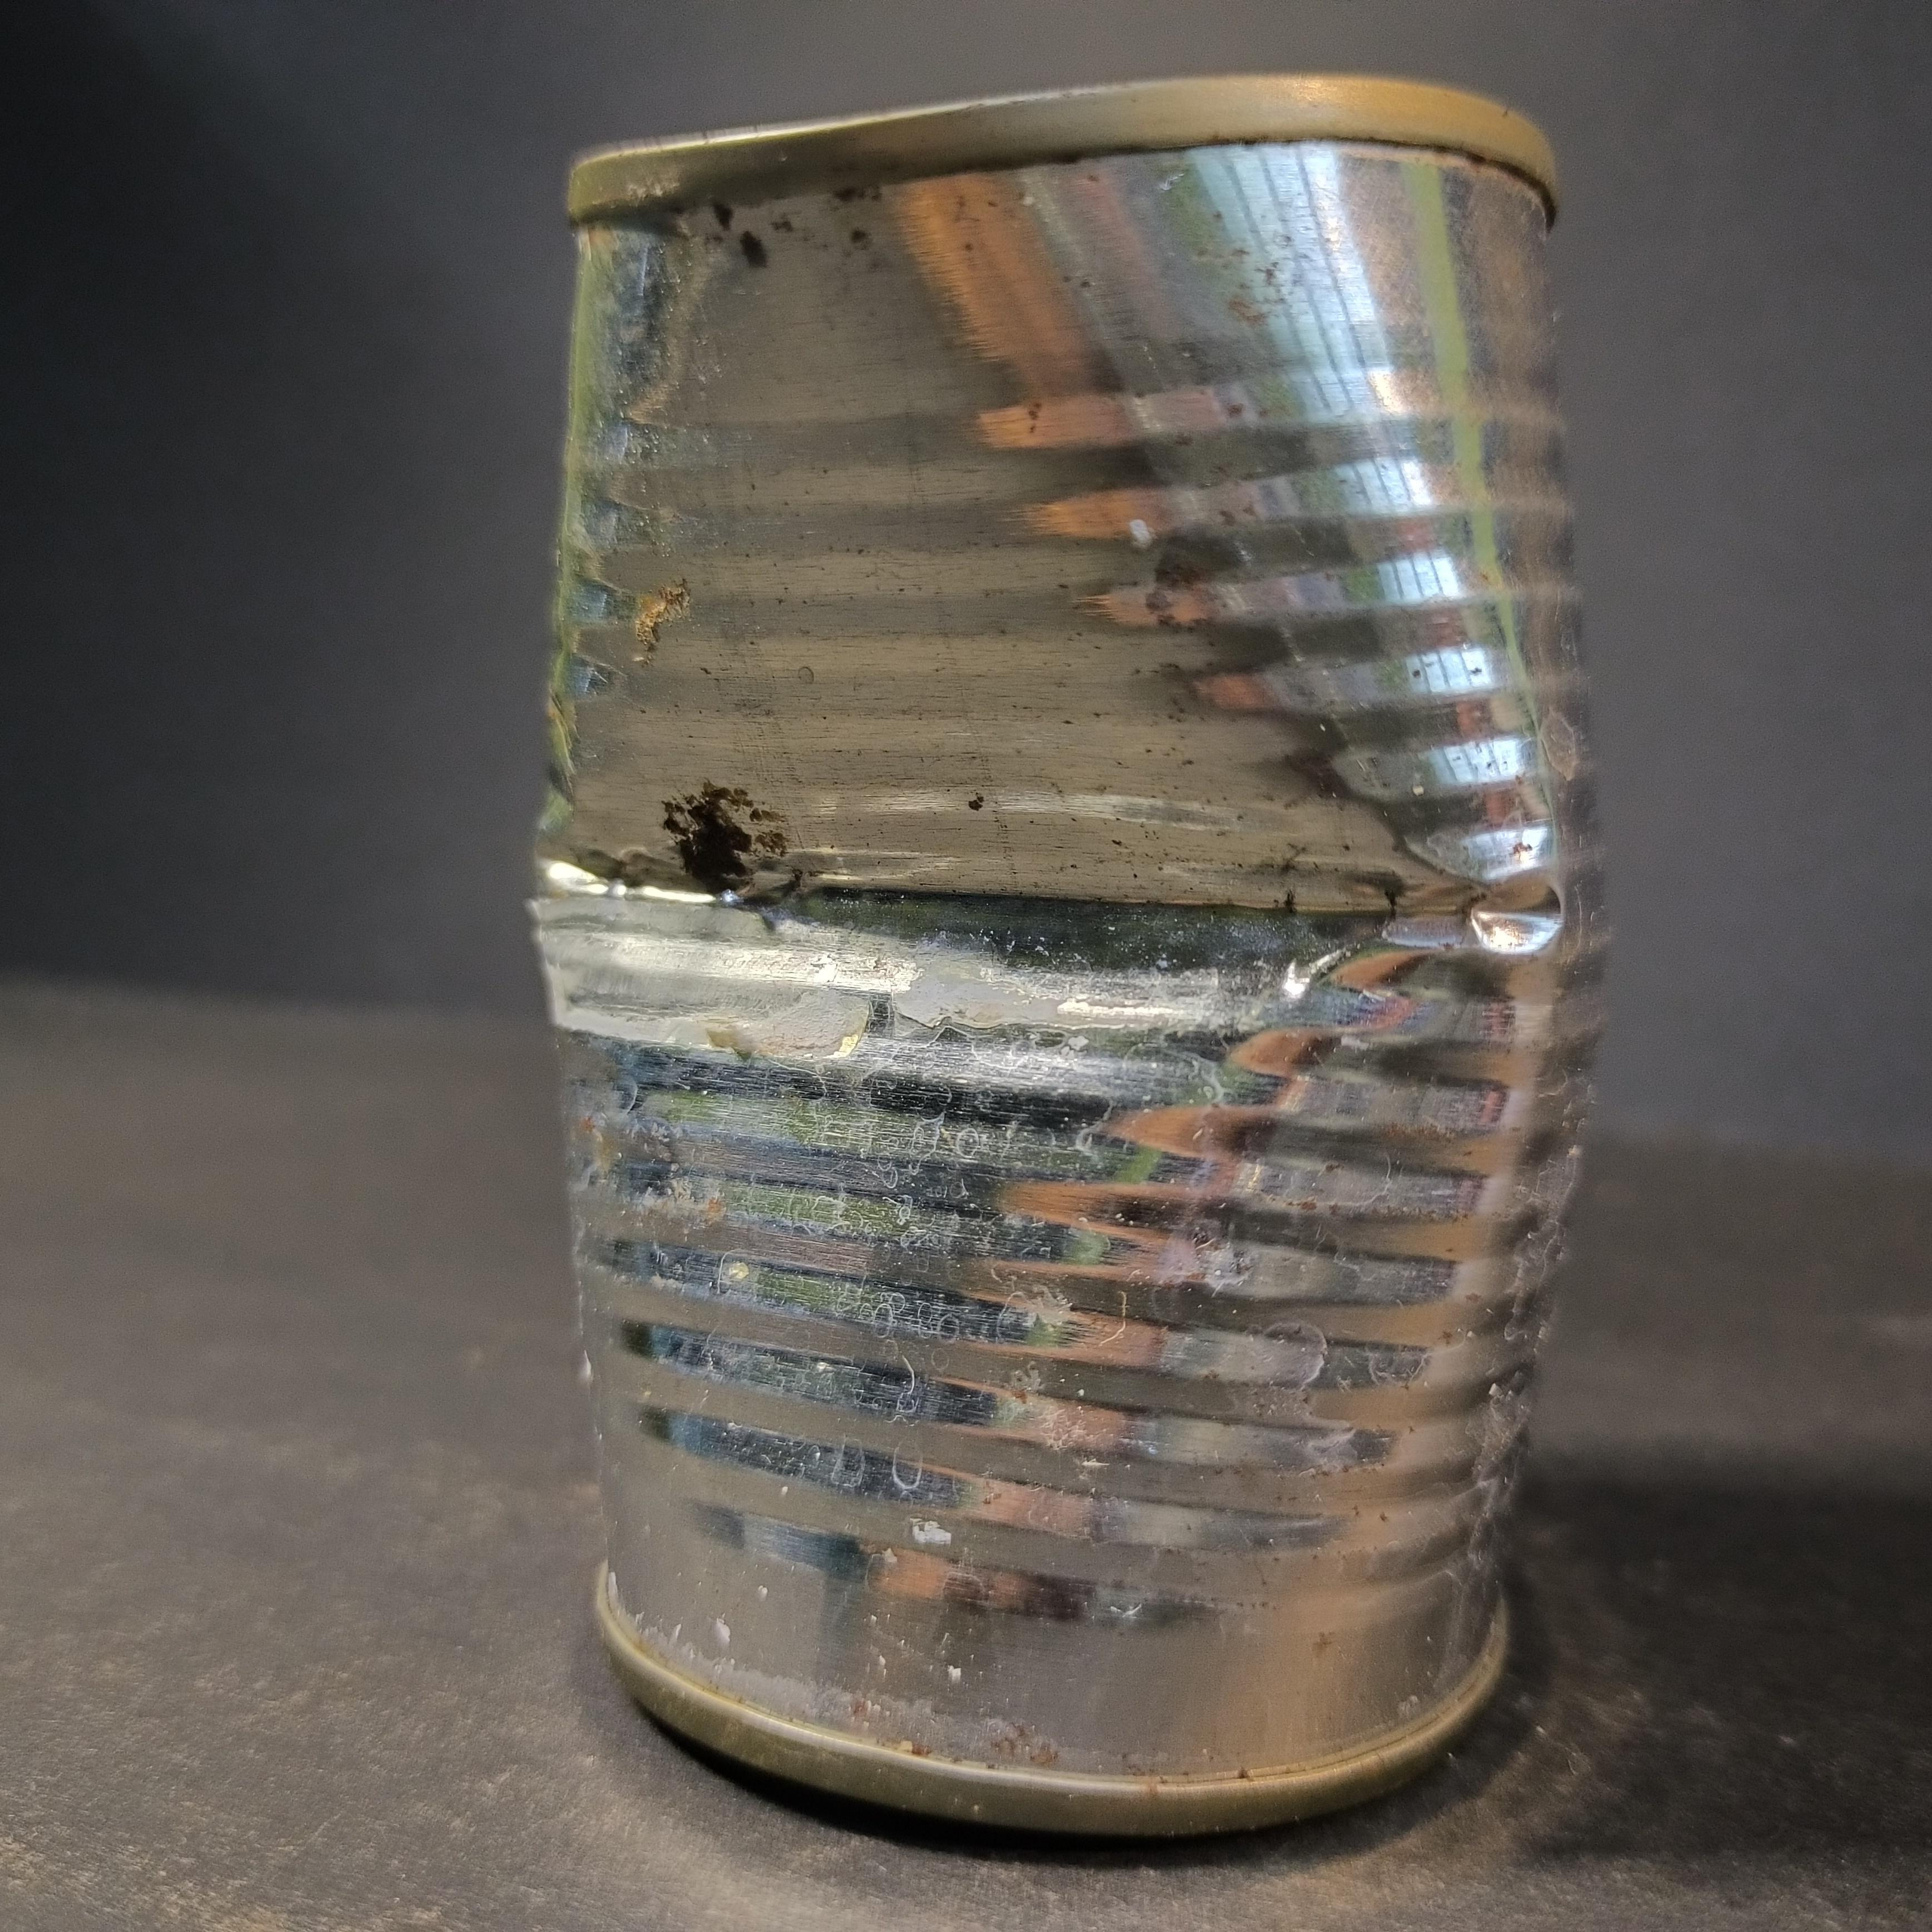Dented: (501, 34, 1644, 1890)
